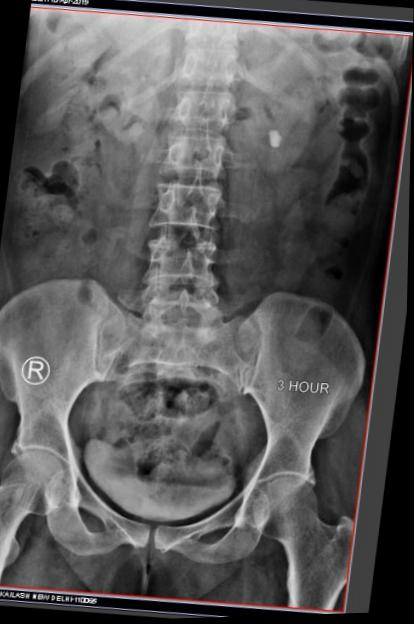bladder: (74, 420, 256, 537)
vertebrae: (170, 86, 236, 134)
